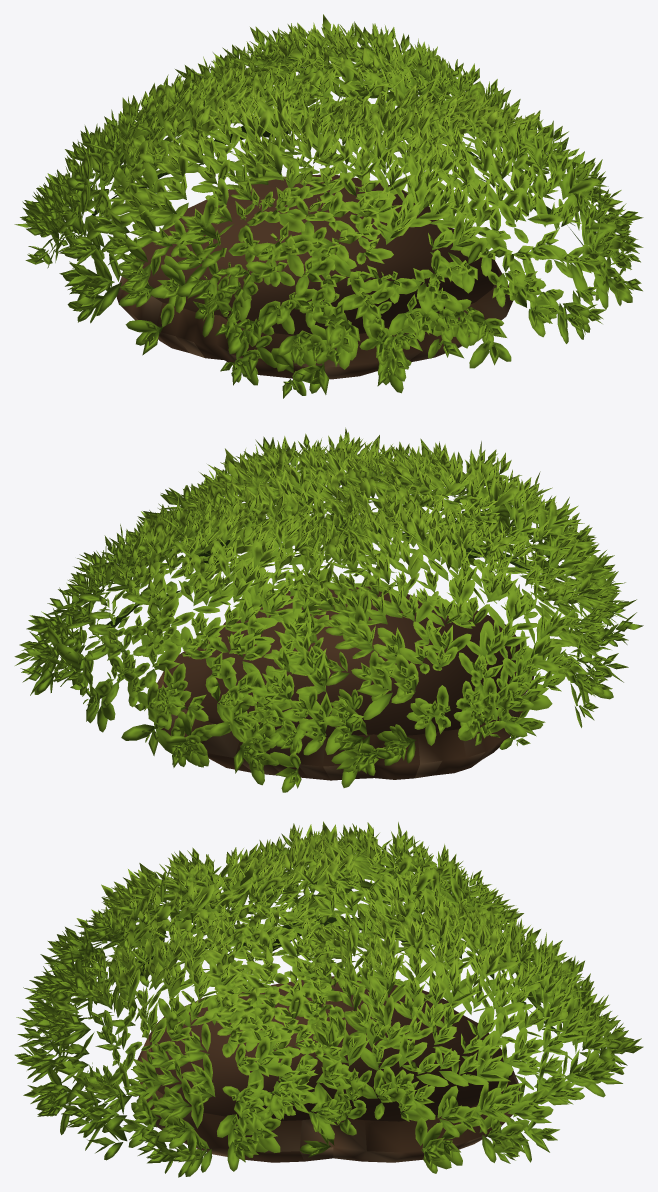
Rendered from moss-tuft-1.glb.
3 views of the same model, one above another, from view 1: azimuth 30°, elevation 25°; view 2: azimuth 150°, elevation 25°; view 3: azimuth 270°, elevation 25° (orthographic).
Parts seen in each view (by area): view 1: lod0; view 2: lod0; view 3: lod0.
Part boxes in pixels (x1,y1,x2,y2): lod0: (14, 14, 643, 398); lod0: (14, 427, 643, 792); lod0: (14, 821, 643, 1177).
Size of what is drawn, in the model's own units: 0.9528 by 0.4086 by 1.
